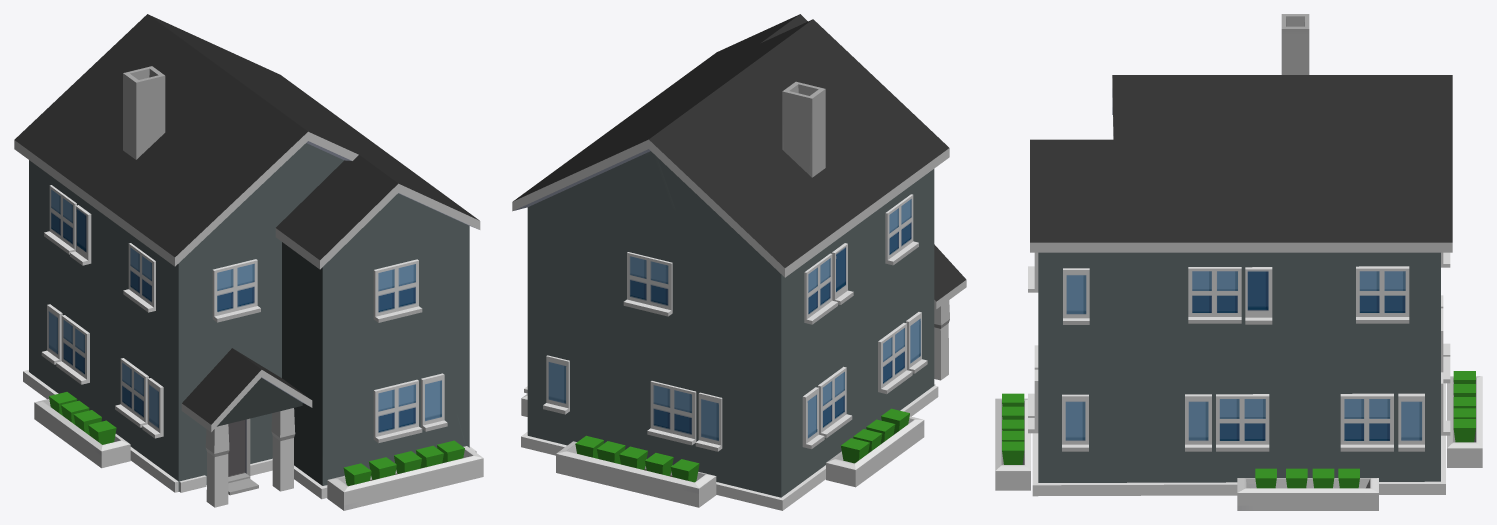
The model's file is Suburb House.fbx.
The picture shows the model from 3 angles, left to right: view 1: azimuth 30°, elevation 25°; view 2: azimuth 150°, elevation 25°; view 3: azimuth 270°, elevation 25°; orthographic projection. The views are drawn at different scales.
Visible parts, largest first — view 1: Suburb House 1; view 2: Suburb House 1; view 3: Suburb House 1.
Boxes of the visible parts, box(x1,y1,x2,y2) form: Suburb House 1: box(14, 14, 483, 510); Suburb House 1: box(512, 14, 966, 510); Suburb House 1: box(995, 14, 1482, 510).
Bounding box in the file's own units: 1265 × 1323 × 1590.
